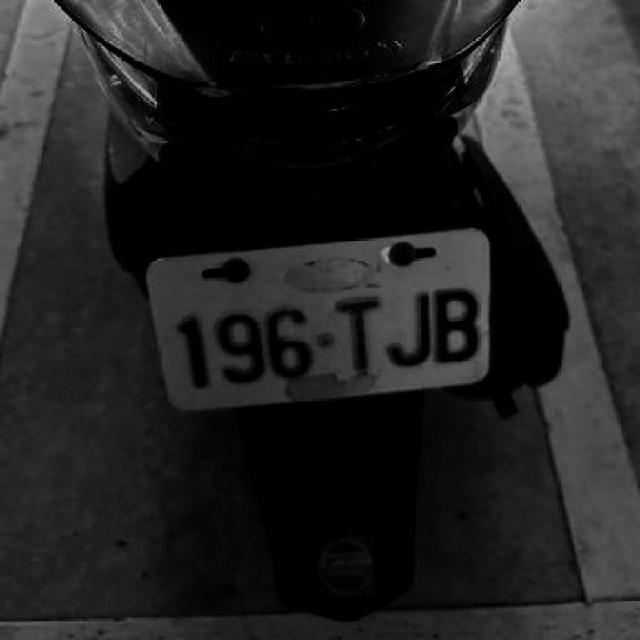-: (318, 329, 332, 345)
1: (174, 316, 206, 386)
6: (264, 306, 316, 379)
9: (216, 310, 264, 384)
B: (434, 286, 480, 365)
J: (384, 290, 430, 368)
T: (336, 286, 378, 379)
